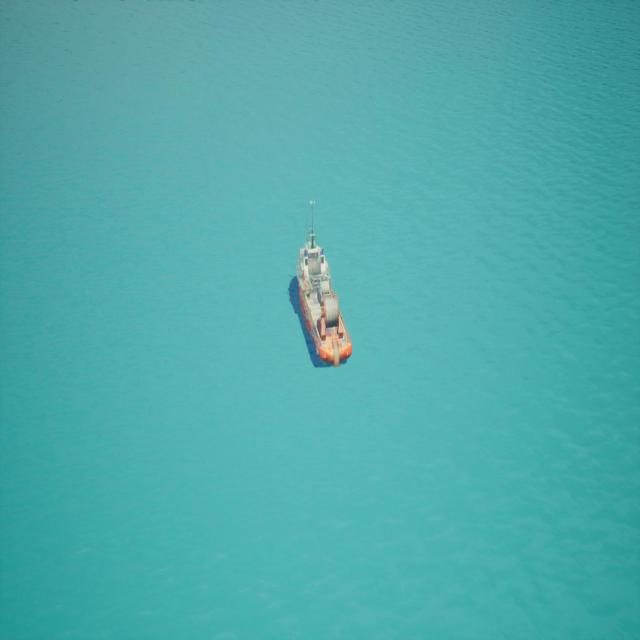tug boat: (290, 203, 353, 369)
